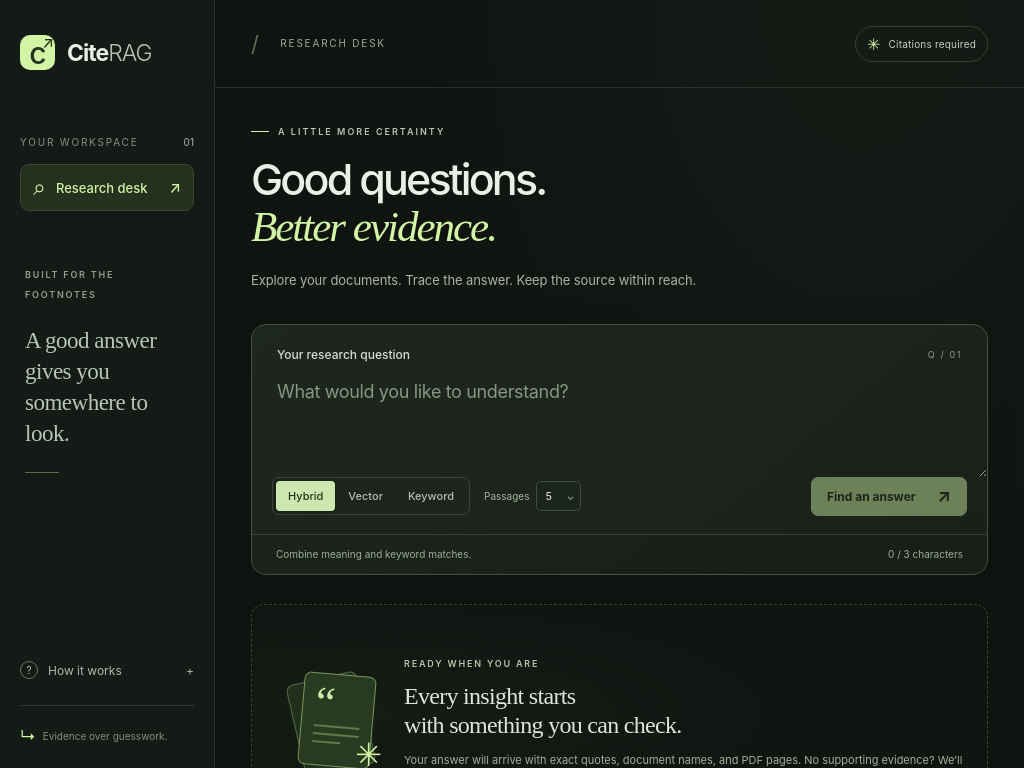
Test: research workspace › enforces nondefault limits using Unicode code points
In the text box labelled "Your research question": (620, 420) [252, 362, 987, 477], type "abcd"
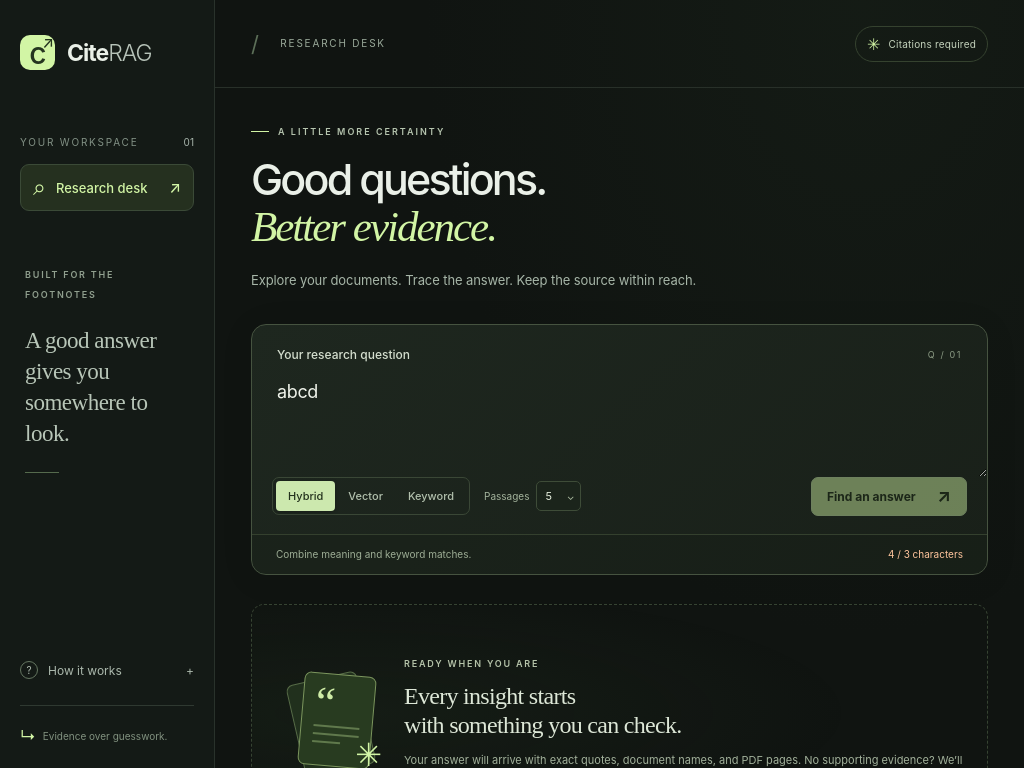
Expected: the button "Find an answer ↗" is disabled, [811, 477, 967, 516]
Result: the text "4 / 3 characters" is shown at [888, 547, 963, 562]
Submit the form "Your research question", box [252, 325, 987, 574]
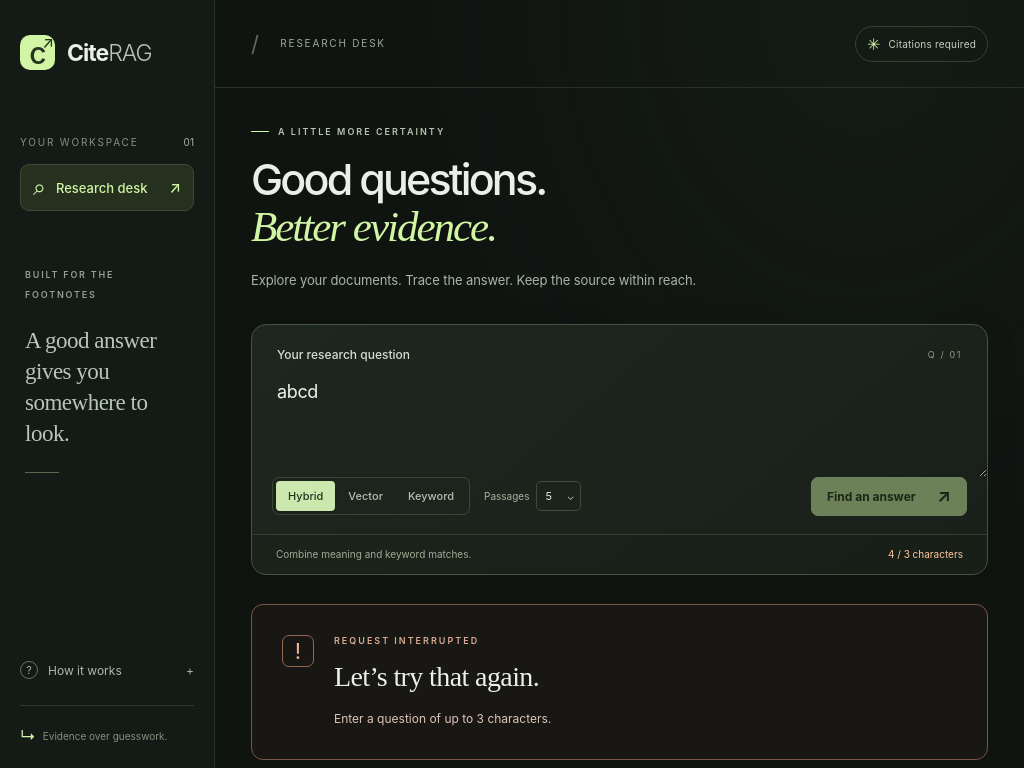
Result: the message shows "up to 3 characters" at [334, 711, 551, 726]
Replace the text in the text box labelled "Your research question" with "😀😀😀": (620, 420) [252, 362, 987, 477]
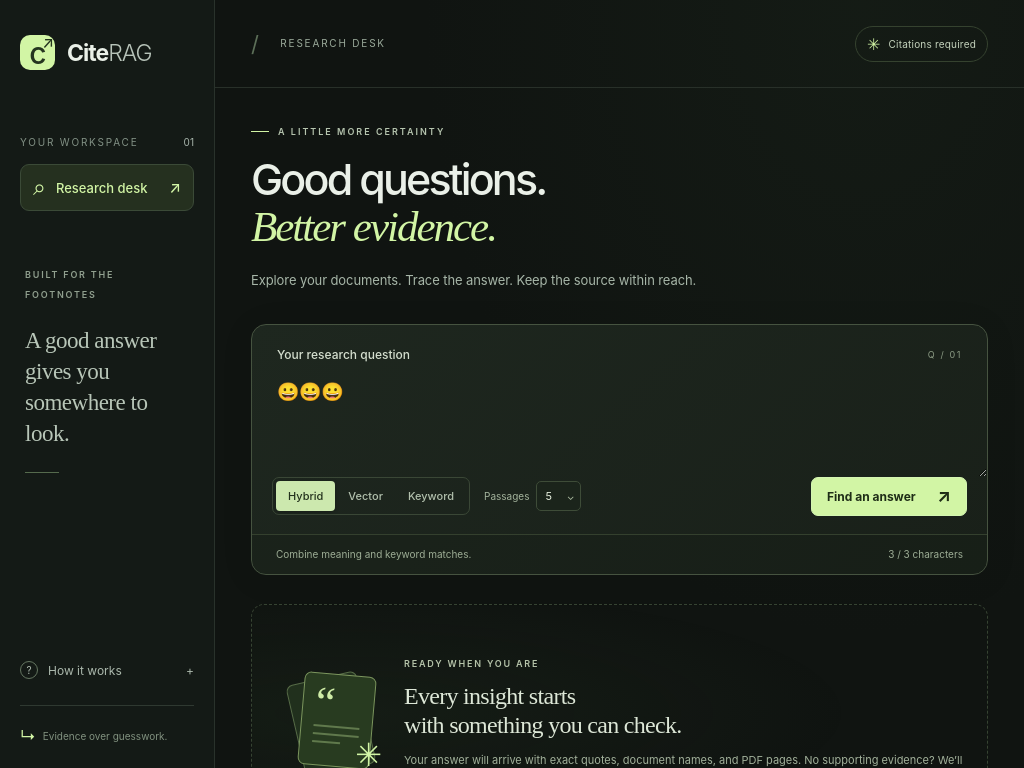
Result: the text "3 / 3 characters" is shown at [888, 547, 963, 562]
Click the button "Find an answer ↗": (889, 496) [811, 477, 967, 516]
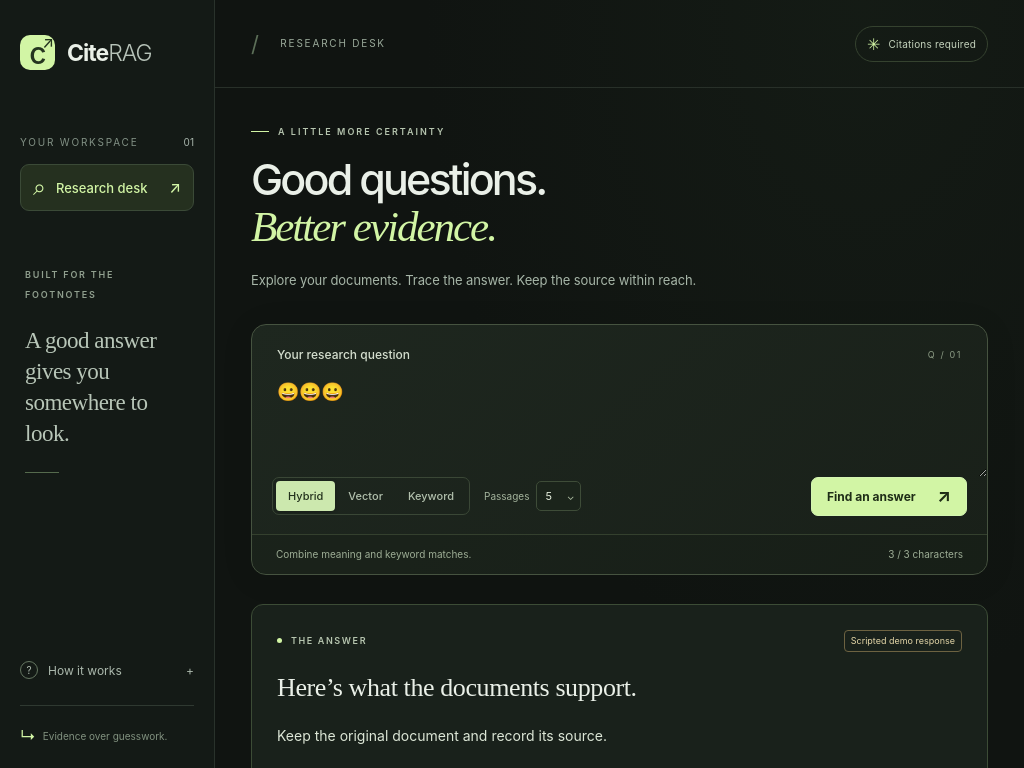
Result: the text "Keep the original document and record its source." is shown at [277, 727, 607, 744]
